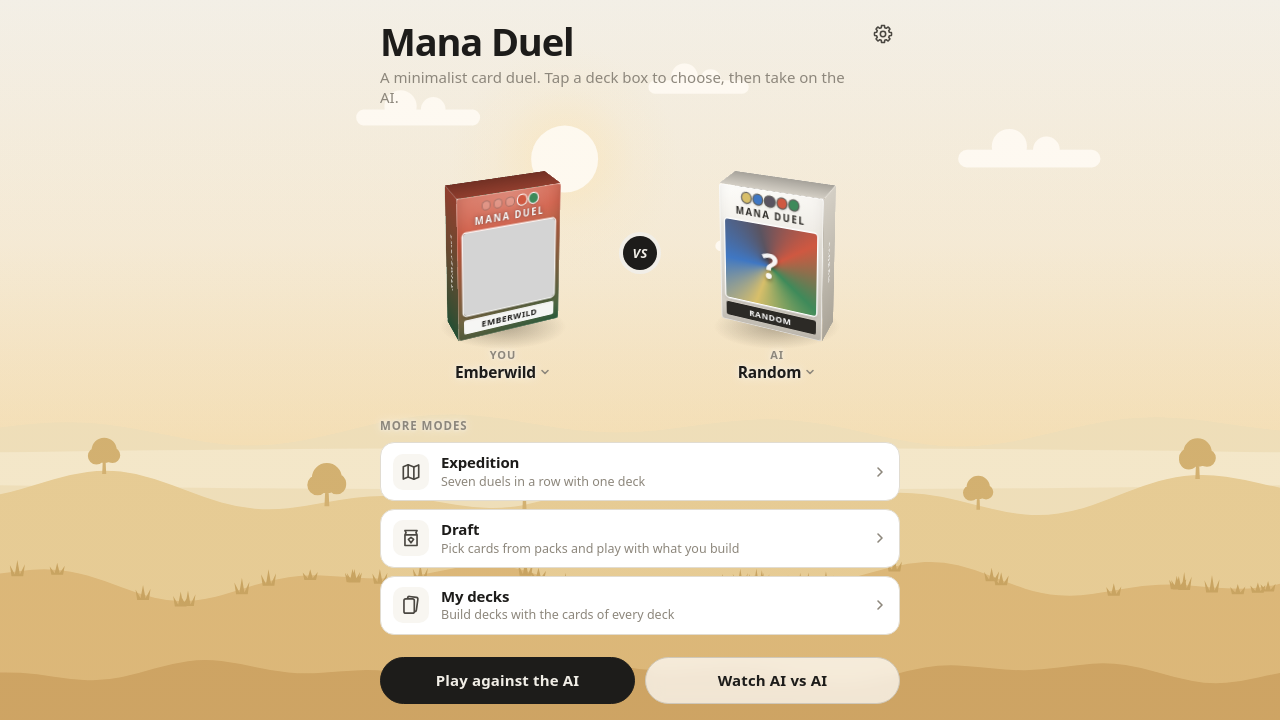
Test: the Expedition in English › opens from the start screen, starts a run and shows its rivals
Check: the text with test id "btn-expedition-status" reads "Seven duels in a row with one deck", box [441,473,645,490]
What coordinates should you click on to do the following:
click the button with test id "btn-expedition"
I would click on:
 (640, 472)
Its box is [380,442,900,501].
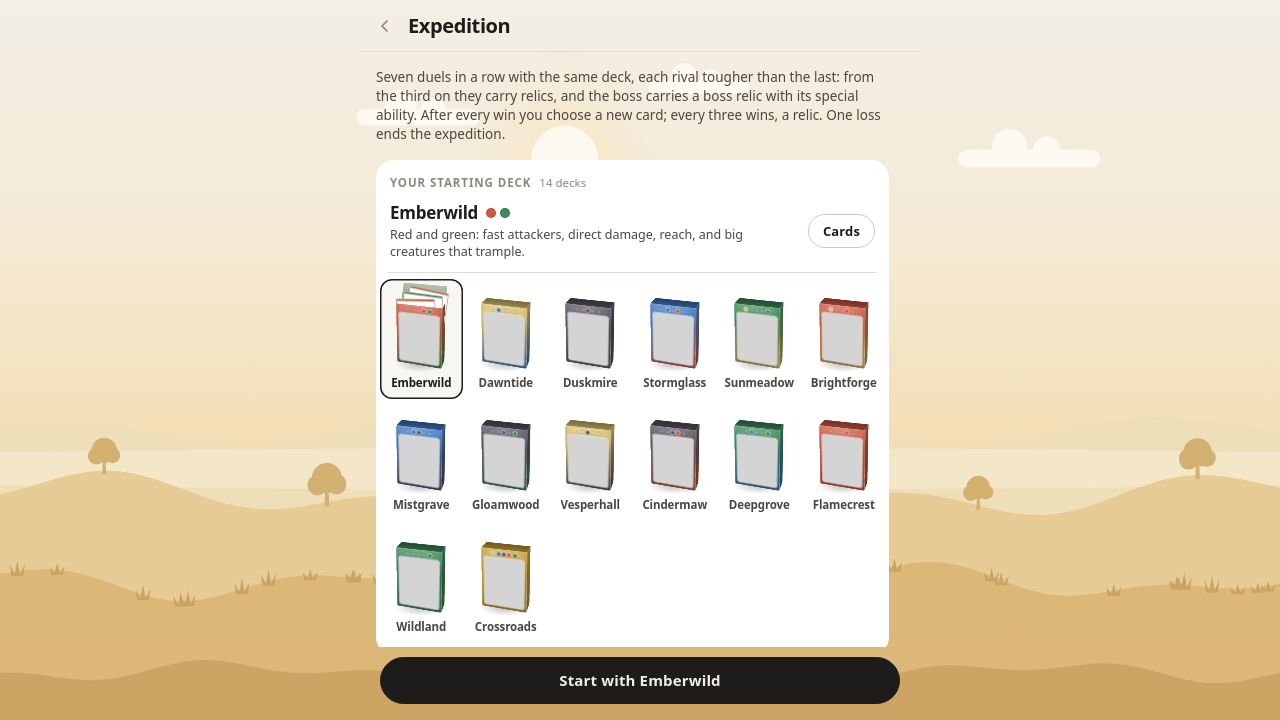
Check: the element with test id "expedition-new" shows "Seven duels in a row with the same deck, each rival tougher than the last: from the third on they carry relics", box [376,68,881,143]
What coordinates should you click on to do the following:
click the radio button with test id "expedition-deck-dawntide"
I would click on:
 (506, 339)
Its box is [464,279,547,399].
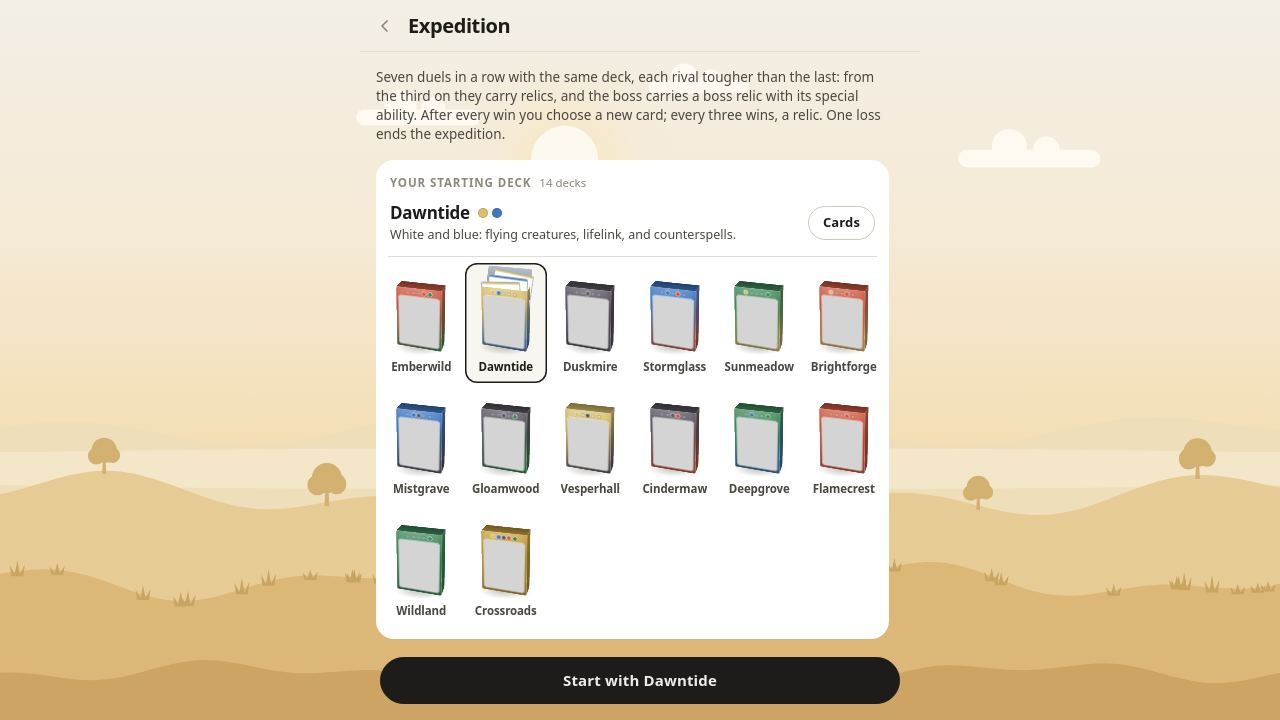
Check: the element with test id "deck-detail" shows "Dawntide", box [390,201,470,224]
Check: the button with test id "btn-expedition-start" reads "Start with Dawntide"
What coordinates should you click on to do the following:
click the button with test id "btn-expedition-start"
I would click on:
 (640, 680)
Its box is [380,656,900,704].
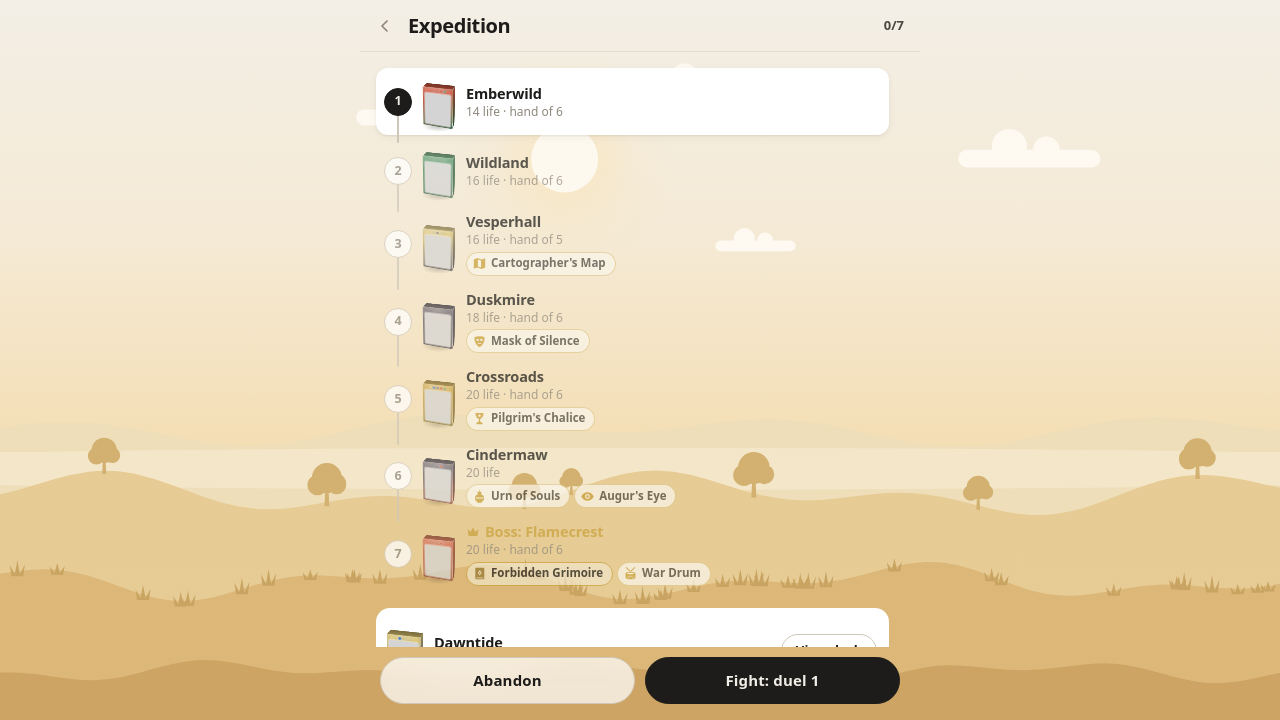
Check: the list item with test id "expedition-floor-1" shows "14 life · hand of 6", box [466,103,563,120]
Check: the list item with test id "expedition-floor-7" shows "Boss:", box [485,521,604,541]
Check: the button with test id "btn-expedition-fight" reads "Fight: duel 1", box [645,656,900,704]
